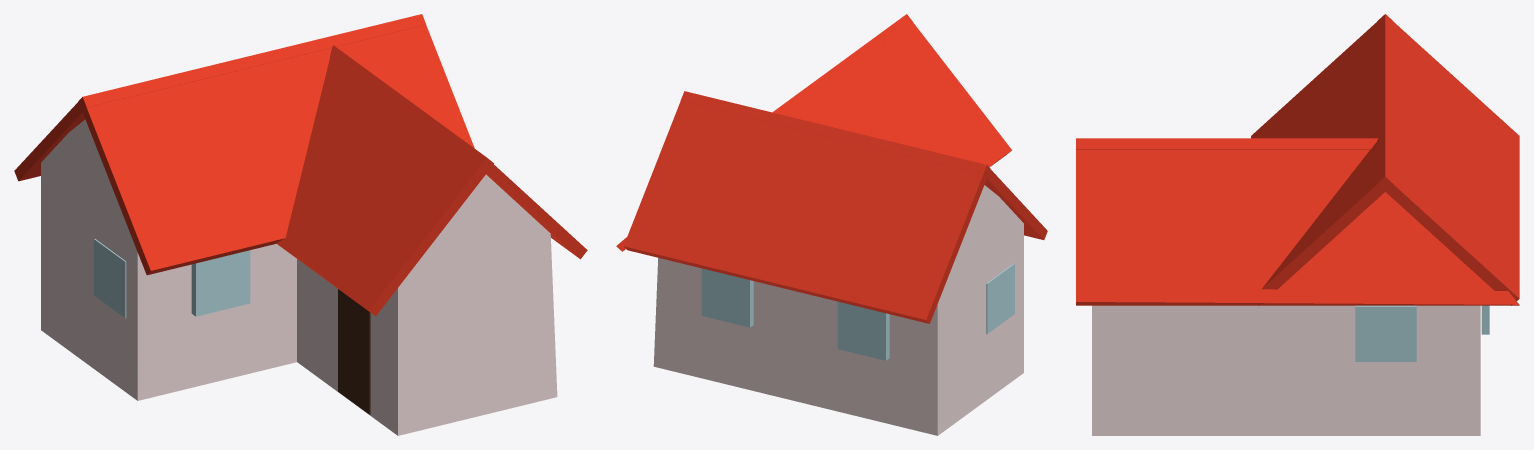
The model's file is home2.fbx.
3 views of the same model, side by side, from view 1: azimuth 30°, elevation 25°; view 2: azimuth 150°, elevation 25°; view 3: azimuth 270°, elevation 25° (orthographic). The views are drawn at different scales.
Visible parts, largest first — view 1: Cube.002, Cube, Cube.001, Cube.004; view 2: Cube.002, Cube, Cube.001; view 3: Cube.002, Cube, Cube.001.
Boxes of the visible parts, x1,y1,x2,y2 form: Cube.002: [14, 14, 587, 316]; Cube: [41, 119, 557, 435]; Cube.001: [94, 239, 250, 318]; Cube.004: [338, 289, 370, 414]; Cube.002: [616, 14, 1047, 323]; Cube: [653, 185, 1023, 435]; Cube.001: [701, 263, 1014, 360]; Cube.002: [1076, 14, 1519, 305]; Cube: [1092, 305, 1480, 435]; Cube.001: [1355, 305, 1489, 361].
Size of the model in its own units: 415 by 308 by 466.
